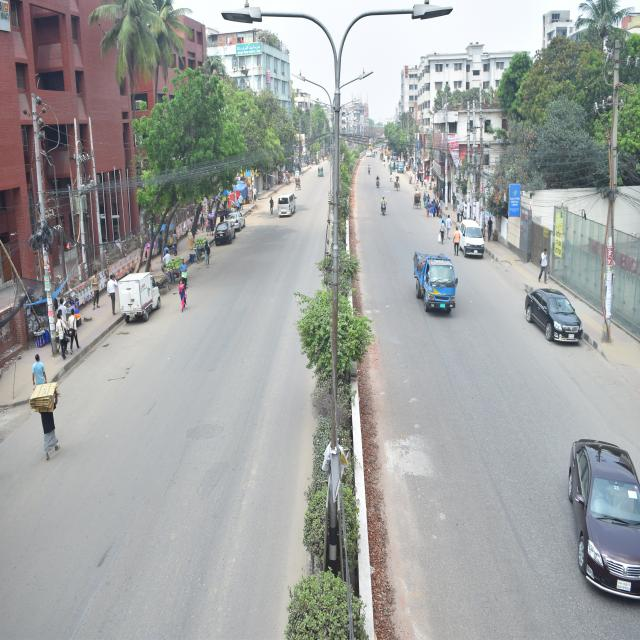car: (533, 404, 640, 607), (510, 275, 602, 367), (453, 208, 491, 273), (212, 220, 240, 255), (227, 206, 249, 235)
microbus: (270, 180, 298, 222)
motorbike: (376, 188, 393, 220), (368, 174, 387, 191), (364, 159, 373, 174)
pickup-van: (114, 259, 186, 333)
truck: (406, 238, 462, 324)
